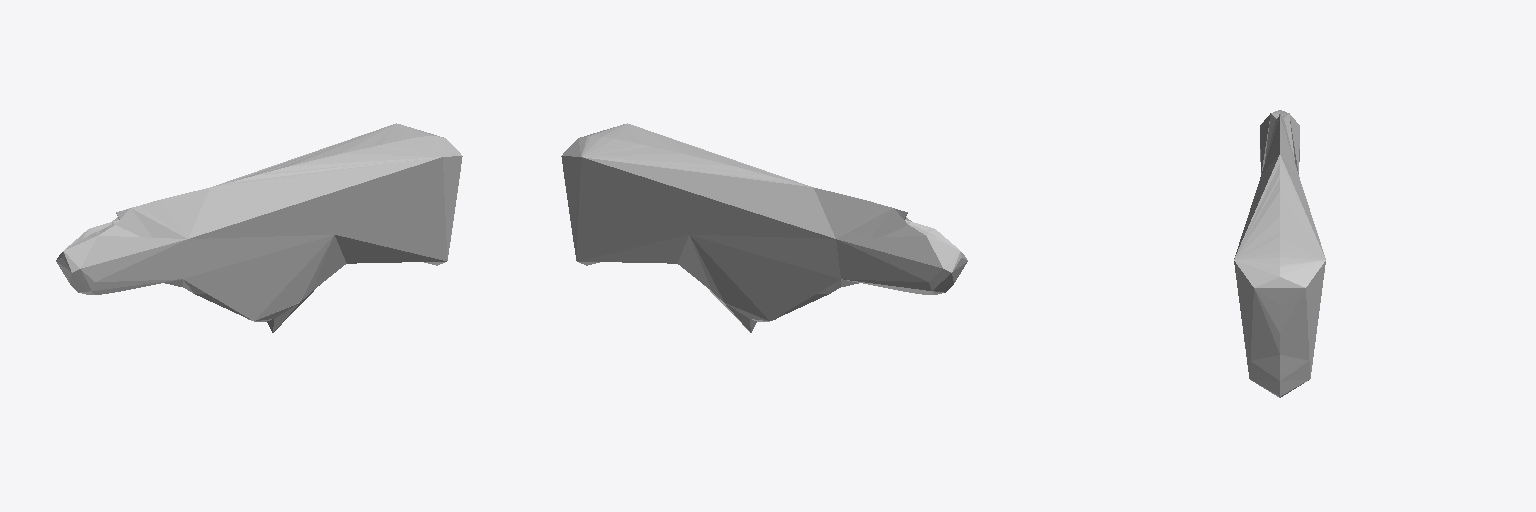
File: tenis.obj
3 views of the same model, side by side, from view 1: azimuth 30°, elevation 25°; view 2: azimuth 150°, elevation 25°; view 3: azimuth 270°, elevation 25° (orthographic).
Parts seen in each view (by area): view 1: grp1; view 2: grp1; view 3: grp1.
Part boxes in pixels (bbox=[...]): grp1: bbox=[56, 123, 462, 332]; grp1: bbox=[561, 123, 967, 332]; grp1: bbox=[1234, 110, 1325, 397].
Size of the model in its own units: 455 by 183 by 93.88.